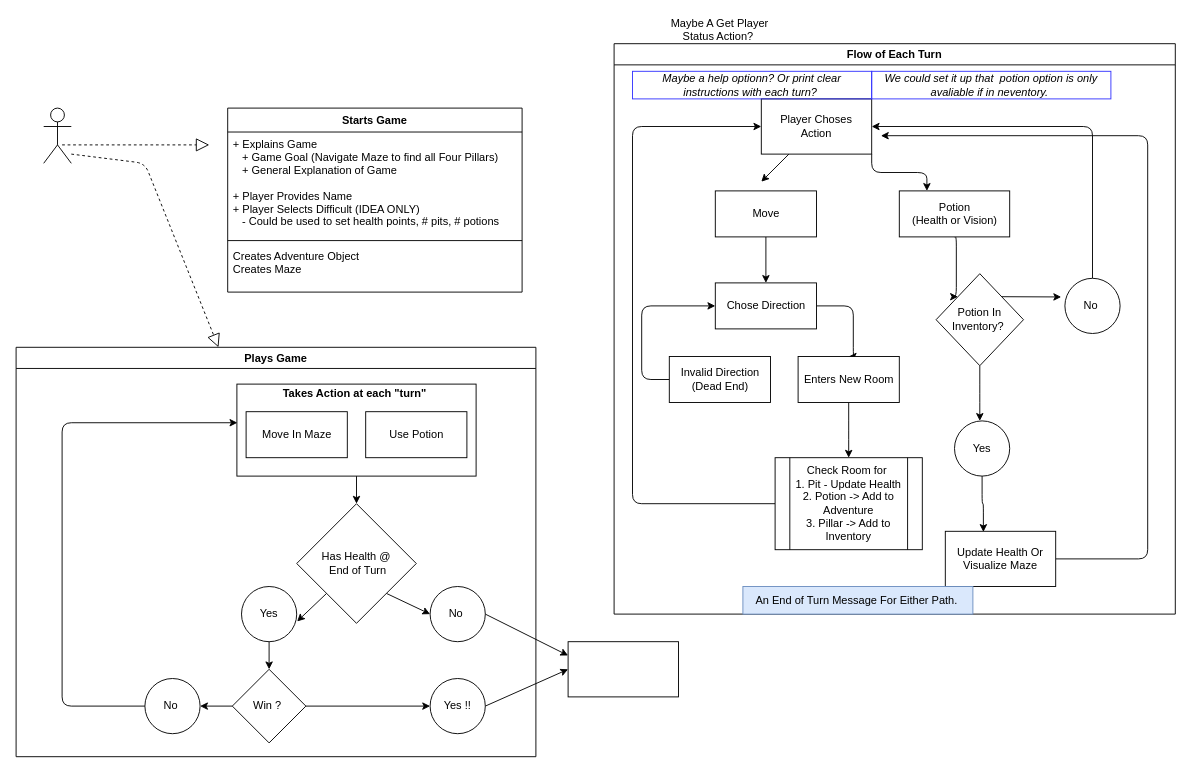
Image size: 1191x773. Some labels were removed from this diagram. Here are the shapes that lost their labels. From the top down, the centre of each, then its label:
the point at 57,135: Player
the point at 622,669: End of Game
